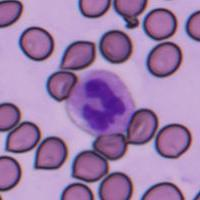N: (66, 68, 136, 137)
